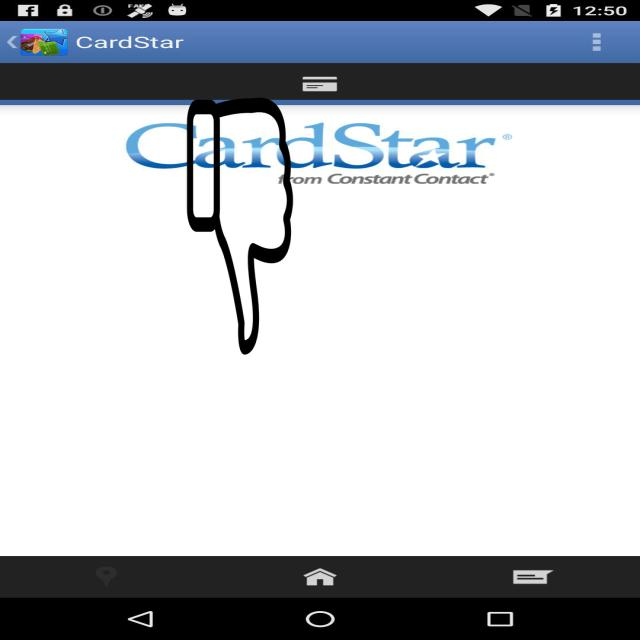obstruction: (186, 98, 294, 354)
